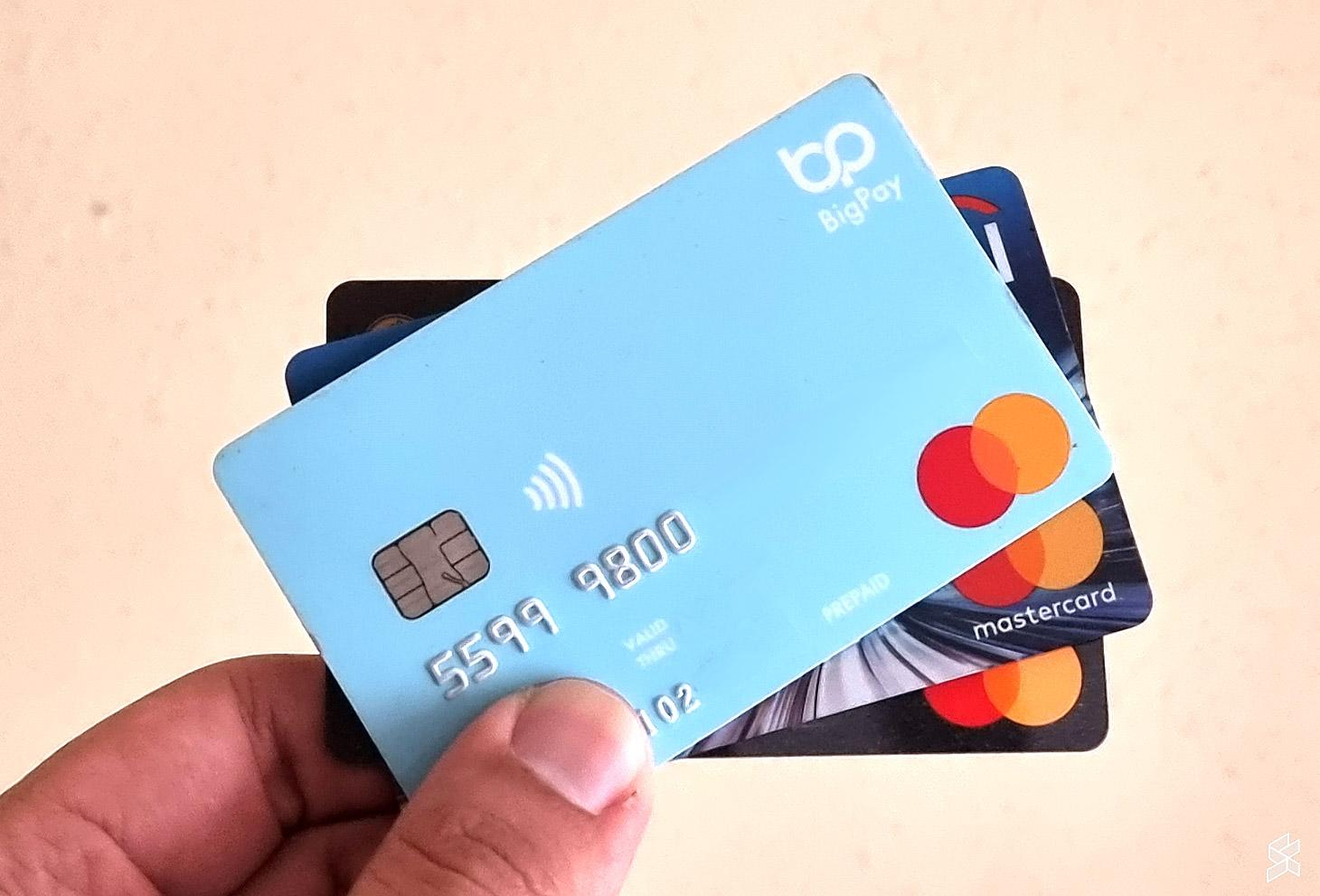Credit_card: (214, 75, 1111, 794)
